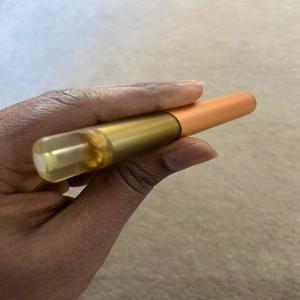Golden-E-Ciggirate: (22, 81, 270, 195)
